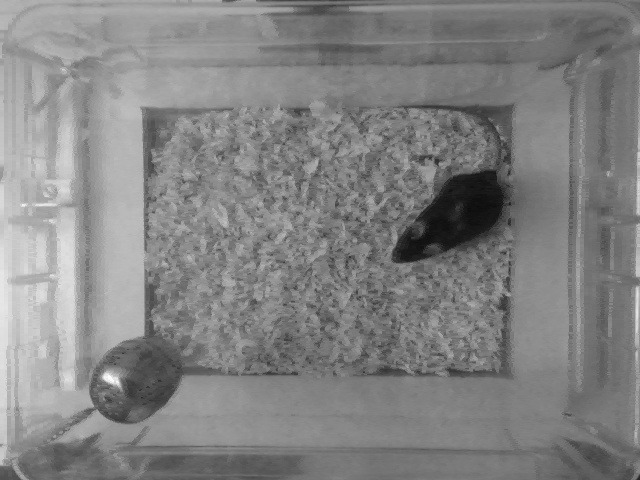mice: (388, 97, 506, 269)
